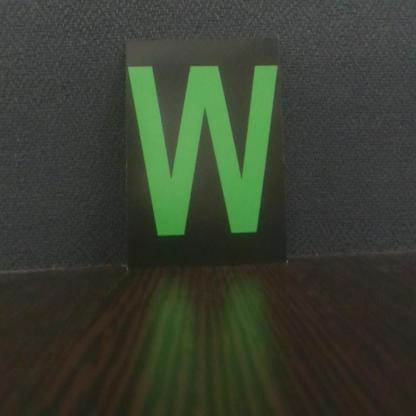w: (125, 36, 288, 262)
